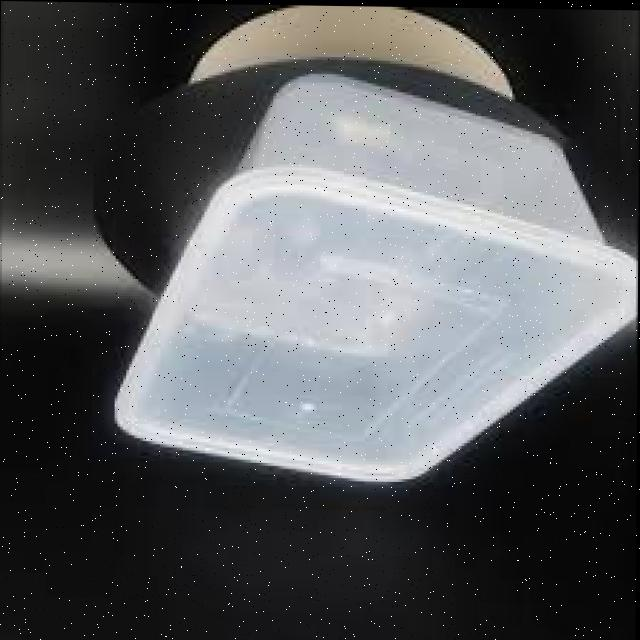disposable: (100, 48, 635, 530)
